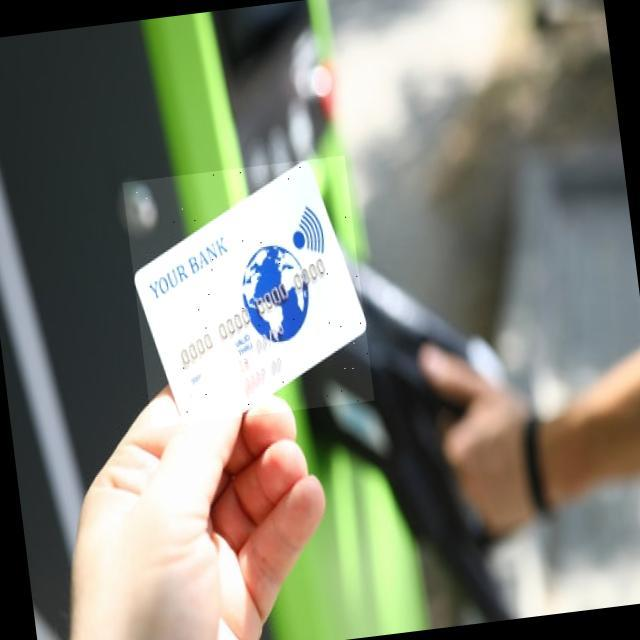payment_card: (131, 156, 368, 422)
